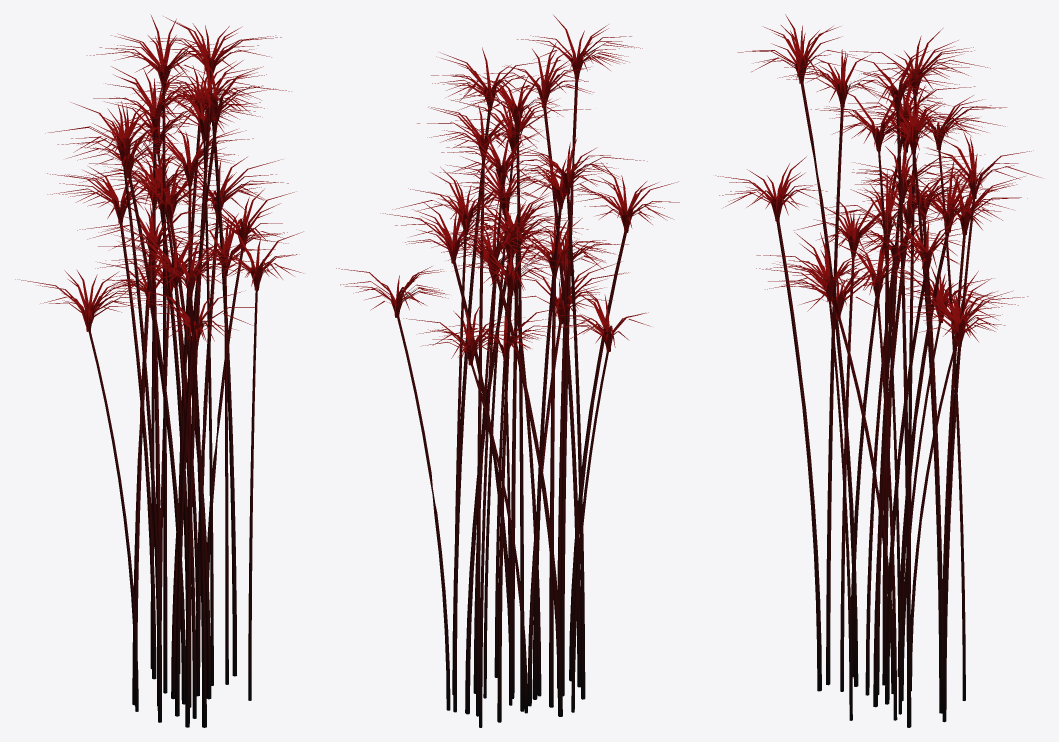
File: common_reed_v1.fbx
The picture shows the model from 3 angles, left to right: view 1: azimuth 30°, elevation 25°; view 2: azimuth 150°, elevation 25°; view 3: azimuth 270°, elevation 25°; orthographic projection. The views are drawn at different scales.
Parts seen in each view (by area): view 1: common_reed_v1; view 2: common_reed_v1; view 3: common_reed_v1.
Part boxes in pixels (<box>): common_reed_v1: <box>15,14,303,727</box>; common_reed_v1: <box>336,15,679,727</box>; common_reed_v1: <box>715,14,1041,727</box>.
Bounding box in the file's own units: 153 × 326 × 150.
